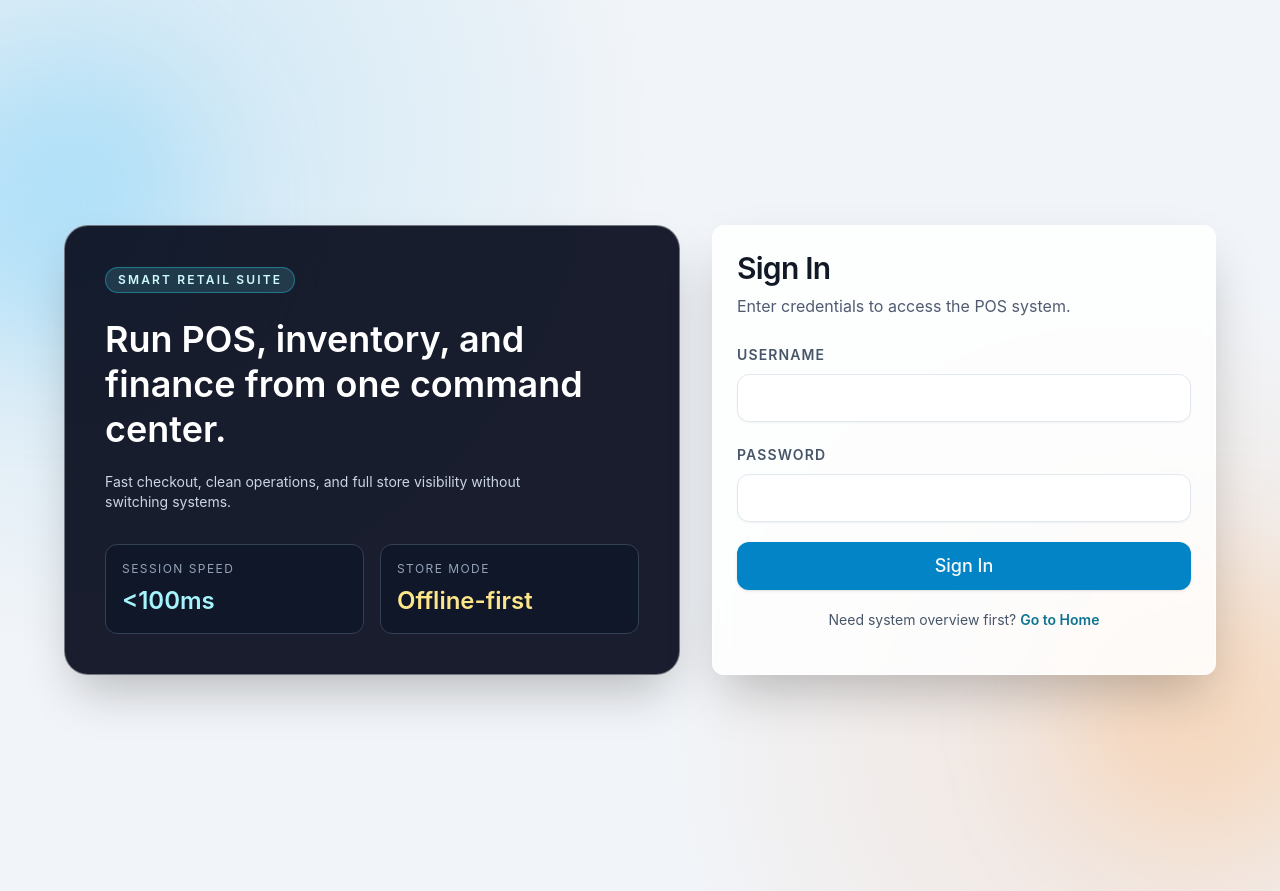
app flows › logs in and lands on dashboard
The width and height of the screenshot is (1280, 891).
Expected: the heading "Sign In" is shown, [737,250,830,286]
Type "admin" into the field labelled "Username". click: [964, 398]
box: [737,374,1191,422]
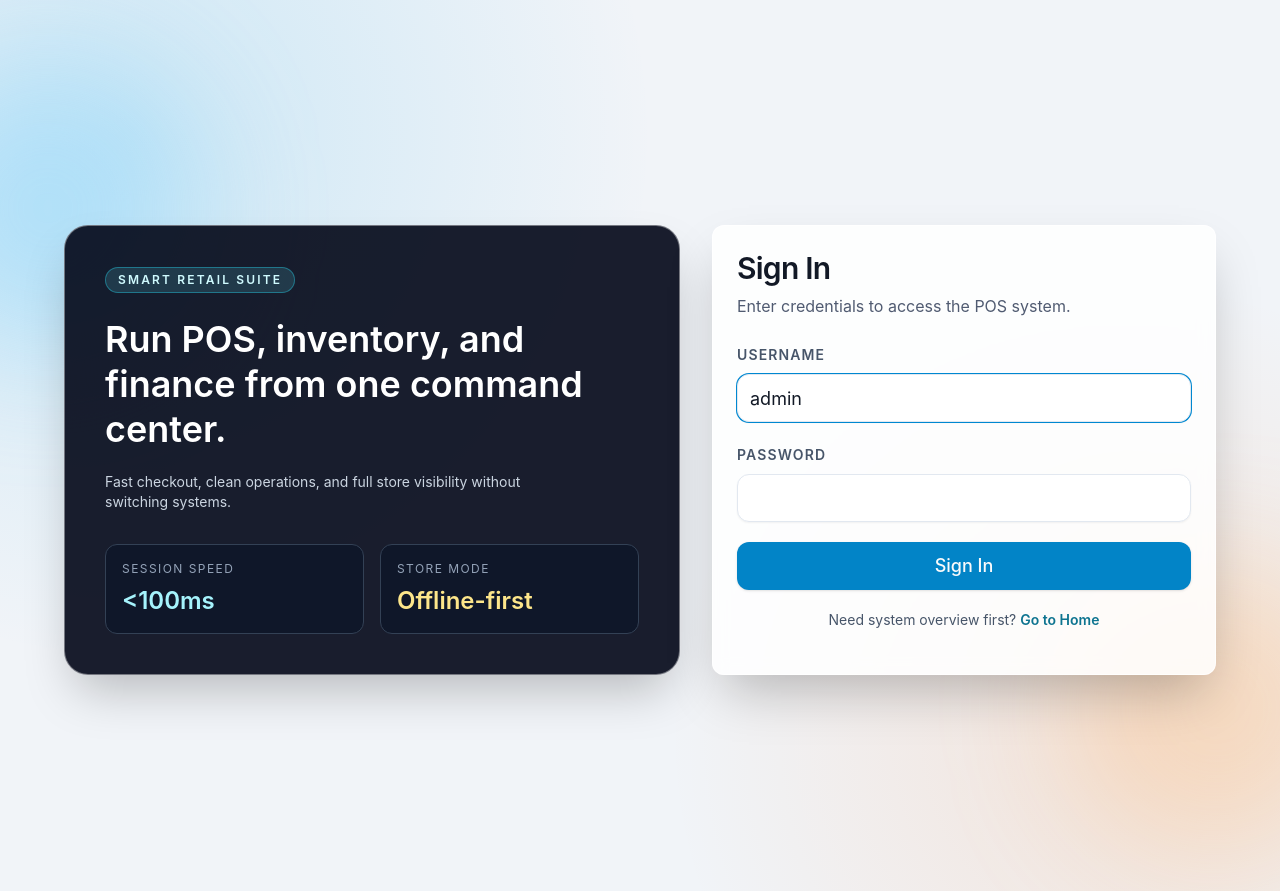
Type "admin123" into the password field labelled "Password". click: [964, 498]
box: [737,474,1191,522]
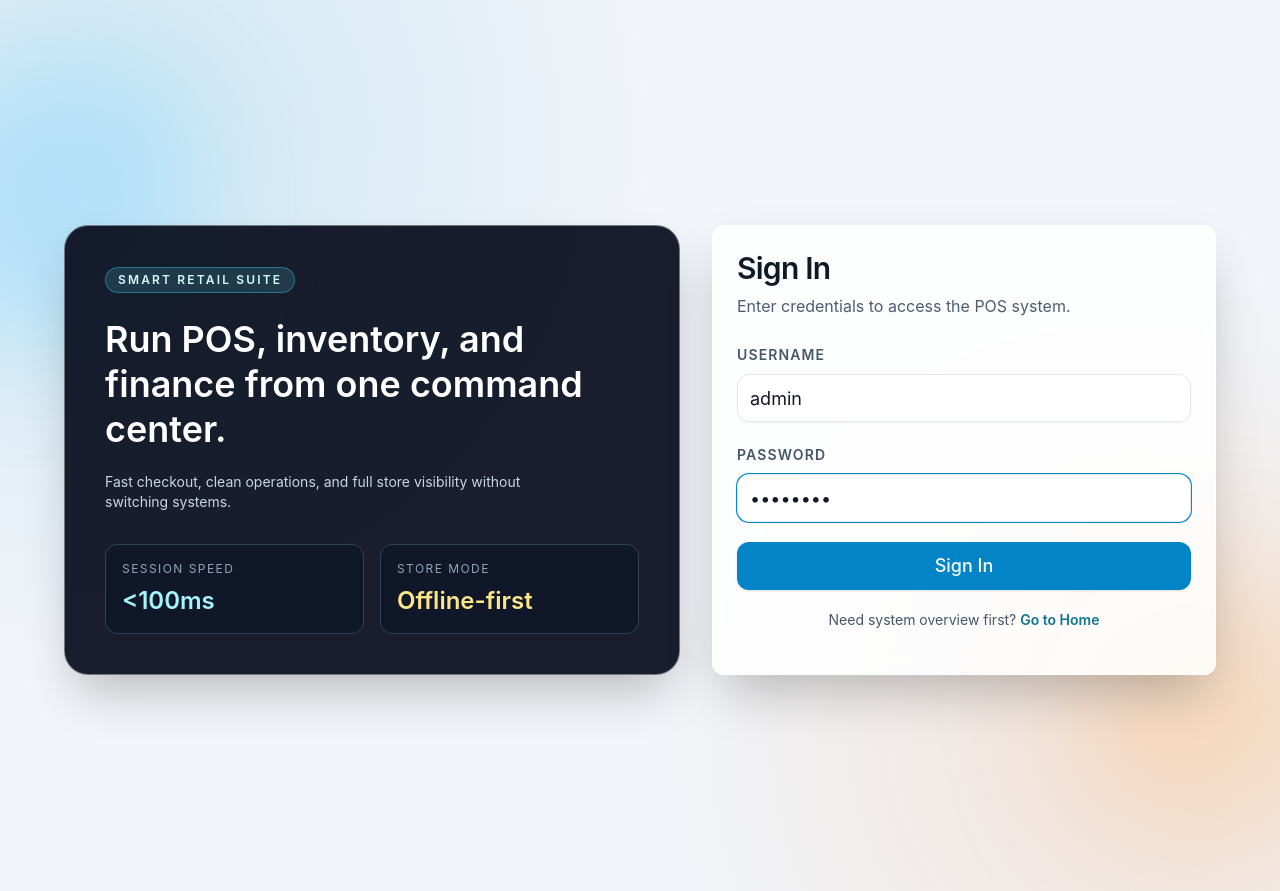
Click the button "Sign In". click: [964, 566]
box: [737,542,1191,590]
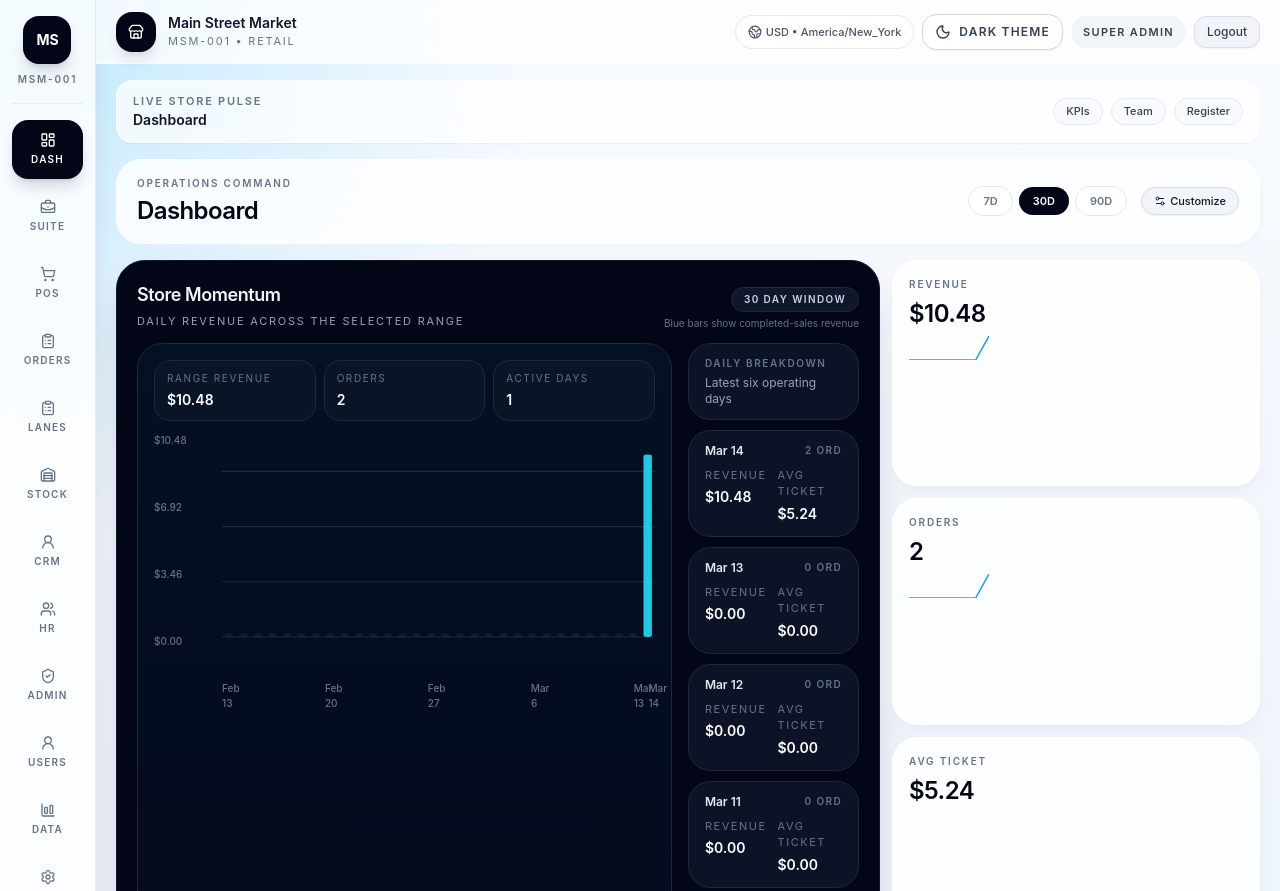
Now the heading "Dashboard" is shown, box [137,196,258,224]
